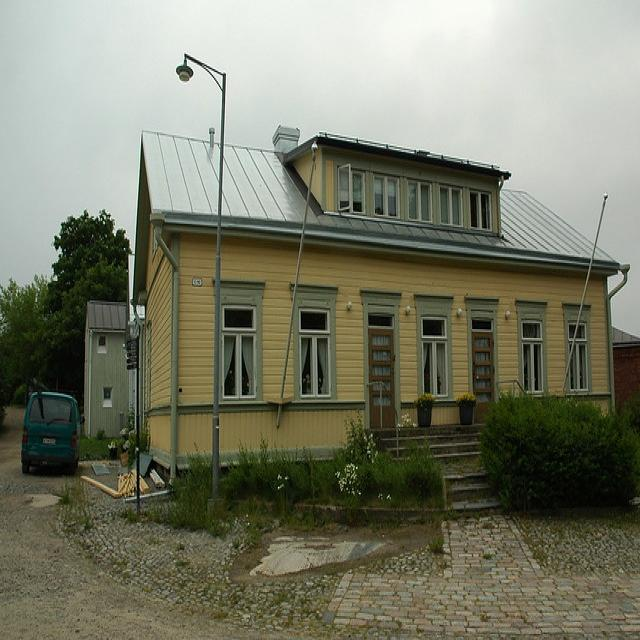Normal_building: (80, 122, 628, 513)
